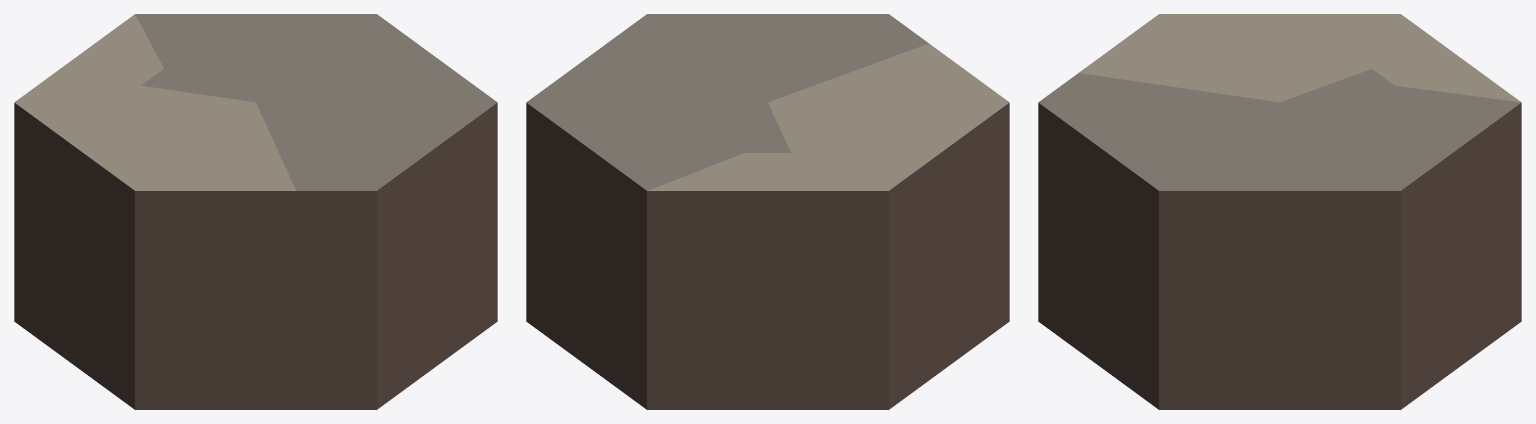
File: AE_Hex_Volcano_Ash.fbx
The picture shows the model from 3 angles, left to right: view 1: azimuth 30°, elevation 25°; view 2: azimuth 150°, elevation 25°; view 3: azimuth 270°, elevation 25°; orthographic projection.
Parts seen in each view (by area): view 1: AE_Hex_Volcano_Ash; view 2: AE_Hex_Volcano_Ash; view 3: AE_Hex_Volcano_Ash.
Boxes of the visible parts, <box> form: AE_Hex_Volcano_Ash: <box>14,14,497,409</box>; AE_Hex_Volcano_Ash: <box>526,14,1009,409</box>; AE_Hex_Volcano_Ash: <box>1038,14,1521,409</box>.
Bounding box in the file's own units: 1.73 × 1 × 2.
